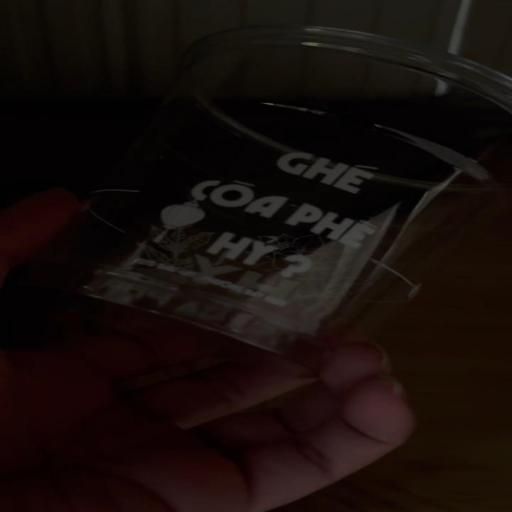ly_giay: (27, 26, 511, 355)
